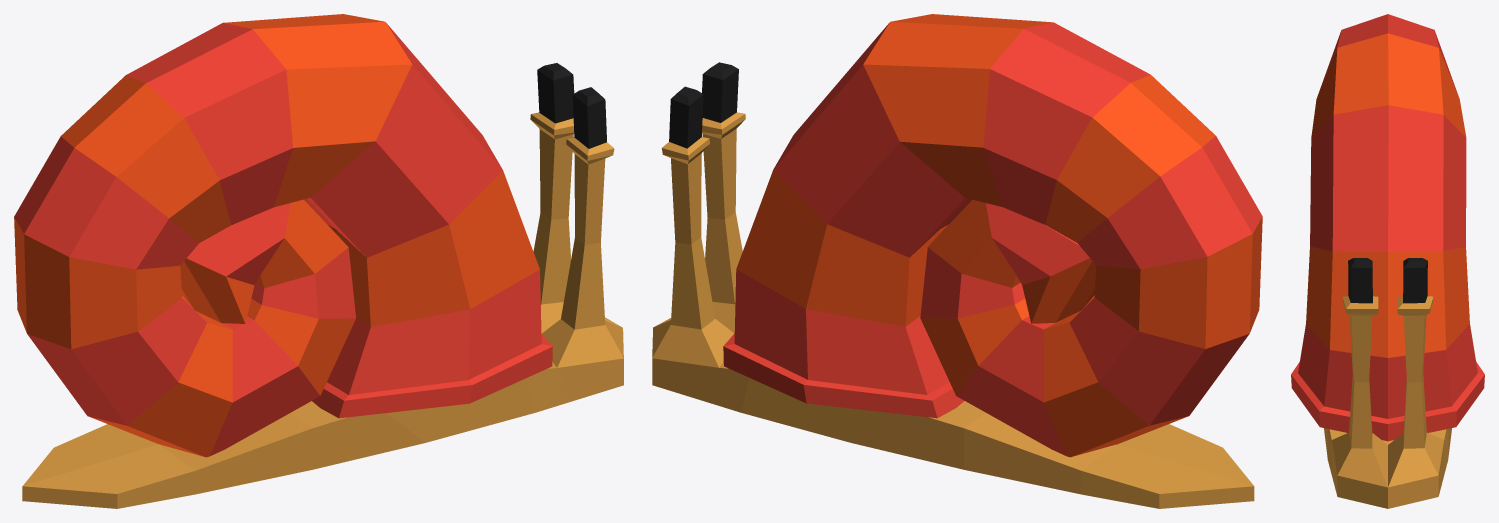
The model's file is Snail.glb.
3 views of the same model, side by side, from view 1: azimuth 30°, elevation 25°; view 2: azimuth 150°, elevation 25°; view 3: azimuth 270°, elevation 25° (orthographic). The views are drawn at different scales.
Visible parts, largest first — view 1: Snail_01_Circle.001; view 2: Snail_01_Circle.001; view 3: Snail_01_Circle.001.
Part boxes in pixels (x1,y1,x2,y2): Snail_01_Circle.001: [14, 14, 623, 508]; Snail_01_Circle.001: [652, 14, 1262, 508]; Snail_01_Circle.001: [1291, 14, 1484, 508].
Size of the model in its own units: 17.35 by 11.48 by 6.09.
